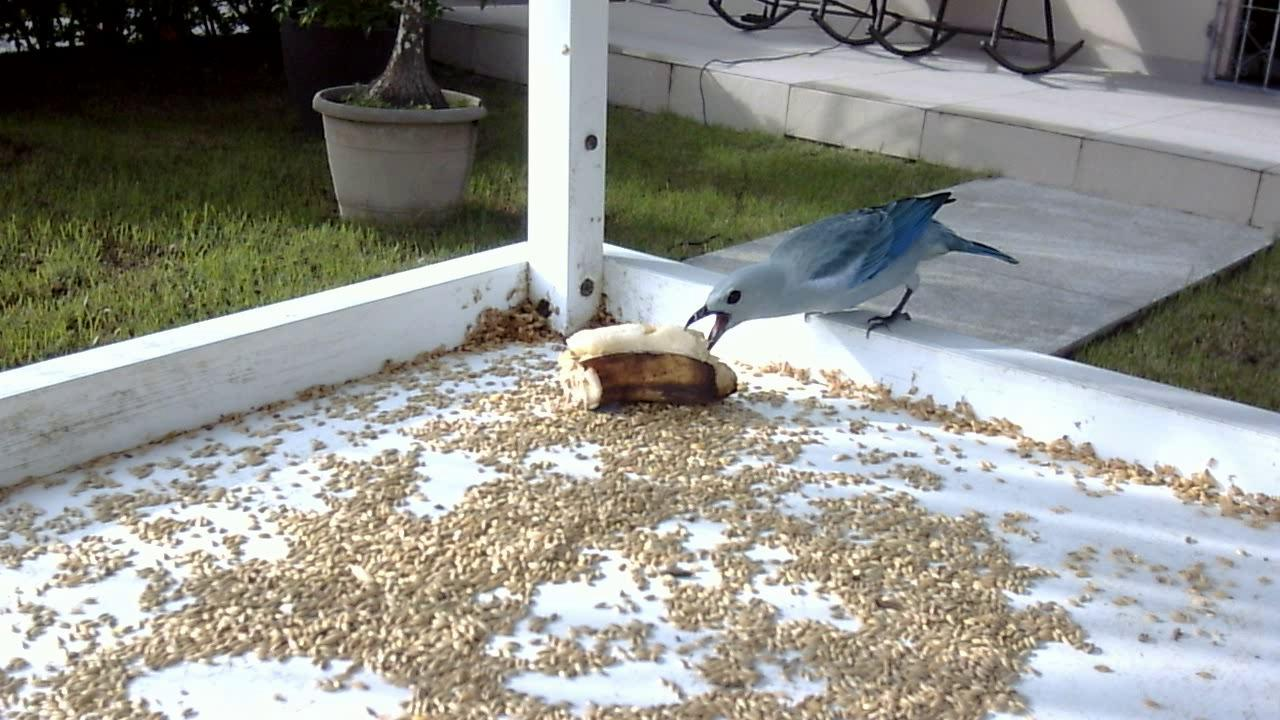sanhaco_da_amazonia: (679, 179, 1024, 371)
